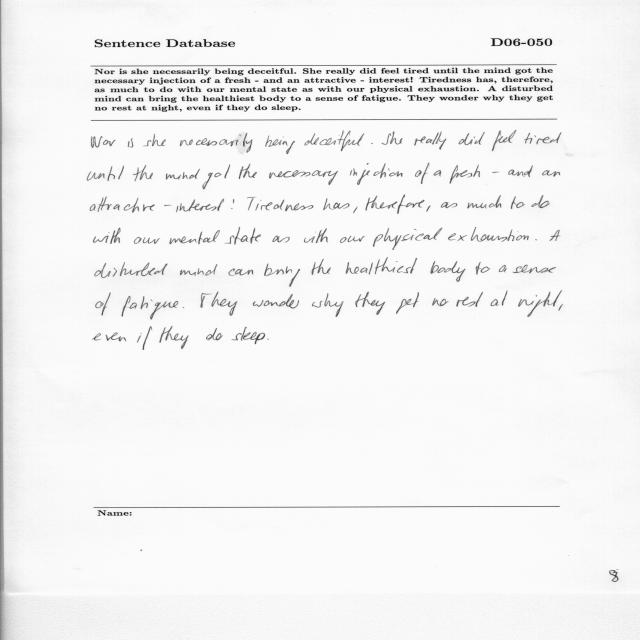word: (373, 227, 442, 250), (180, 133, 252, 153), (122, 296, 178, 319), (305, 131, 365, 152), (448, 227, 529, 242), (346, 258, 417, 275), (95, 262, 168, 278), (350, 163, 402, 185), (518, 291, 562, 317), (366, 195, 425, 214), (90, 197, 155, 213), (269, 170, 338, 185), (247, 197, 313, 211), (201, 292, 238, 316), (264, 264, 300, 287), (312, 293, 344, 317), (431, 261, 466, 282), (169, 230, 220, 244), (203, 165, 231, 190), (355, 292, 385, 315), (159, 326, 189, 349), (225, 227, 261, 245), (253, 294, 299, 308), (176, 199, 224, 212), (87, 165, 124, 181), (449, 165, 480, 184), (414, 132, 446, 150), (232, 327, 265, 344), (265, 136, 295, 154), (396, 292, 419, 314), (492, 130, 516, 151), (468, 195, 502, 209), (94, 227, 121, 244), (525, 133, 562, 145), (180, 264, 217, 276), (456, 292, 483, 307), (513, 265, 556, 274), (166, 169, 200, 180), (304, 228, 328, 243), (137, 326, 152, 350), (458, 132, 485, 145), (96, 293, 111, 316), (133, 165, 153, 181), (311, 259, 331, 275), (93, 333, 127, 342), (91, 136, 116, 148), (323, 199, 350, 210), (382, 131, 403, 145), (415, 163, 429, 184), (143, 134, 166, 146), (508, 166, 533, 177), (239, 164, 257, 179), (491, 291, 508, 306), (531, 195, 550, 208), (206, 328, 223, 340), (229, 268, 254, 276), (511, 196, 525, 209), (134, 237, 160, 244), (476, 262, 490, 275), (340, 236, 365, 243), (432, 298, 449, 306), (542, 170, 560, 177), (272, 236, 290, 243), (550, 230, 561, 241), (441, 202, 457, 208), (499, 265, 507, 272), (128, 139, 133, 148), (434, 170, 441, 176), (353, 207, 358, 214), (558, 304, 563, 311), (231, 199, 234, 209), (427, 206, 431, 212), (492, 172, 499, 173), (164, 205, 171, 206), (371, 143, 373, 144), (535, 240, 537, 241), (267, 339, 269, 340), (183, 307, 184, 308)
